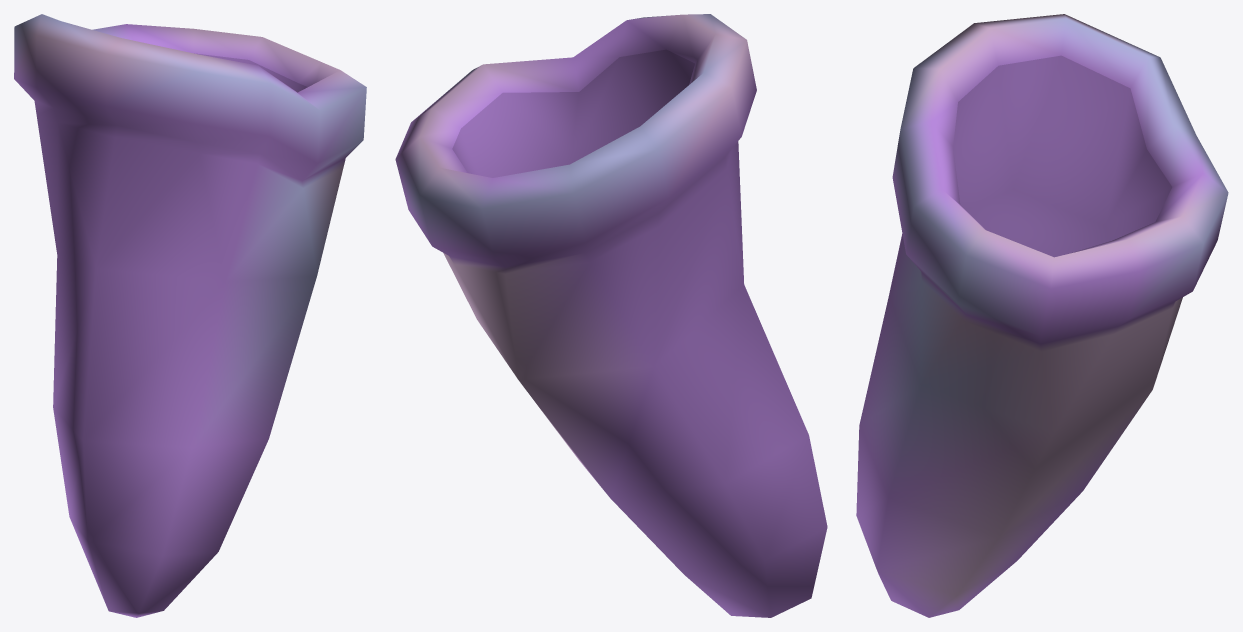
The model's file is Maze_CoralPurple_A.glb.
3 renders of one model, left to right at view 1: azimuth 30°, elevation 25°; view 2: azimuth 150°, elevation 25°; view 3: azimuth 270°, elevation 25°, orthographic. The views are drawn at different scales.
Parts seen in each view (by area): view 1: Maze_CoralPurple_A; view 2: Maze_CoralPurple_A; view 3: Maze_CoralPurple_A.
Boxes of the visible parts, x1,y1,x2,y2 form: Maze_CoralPurple_A: [14, 14, 366, 617]; Maze_CoralPurple_A: [395, 14, 827, 617]; Maze_CoralPurple_A: [856, 14, 1228, 617].
Bounding box in the file's own units: 0.42 × 0.6922 × 0.3971.
